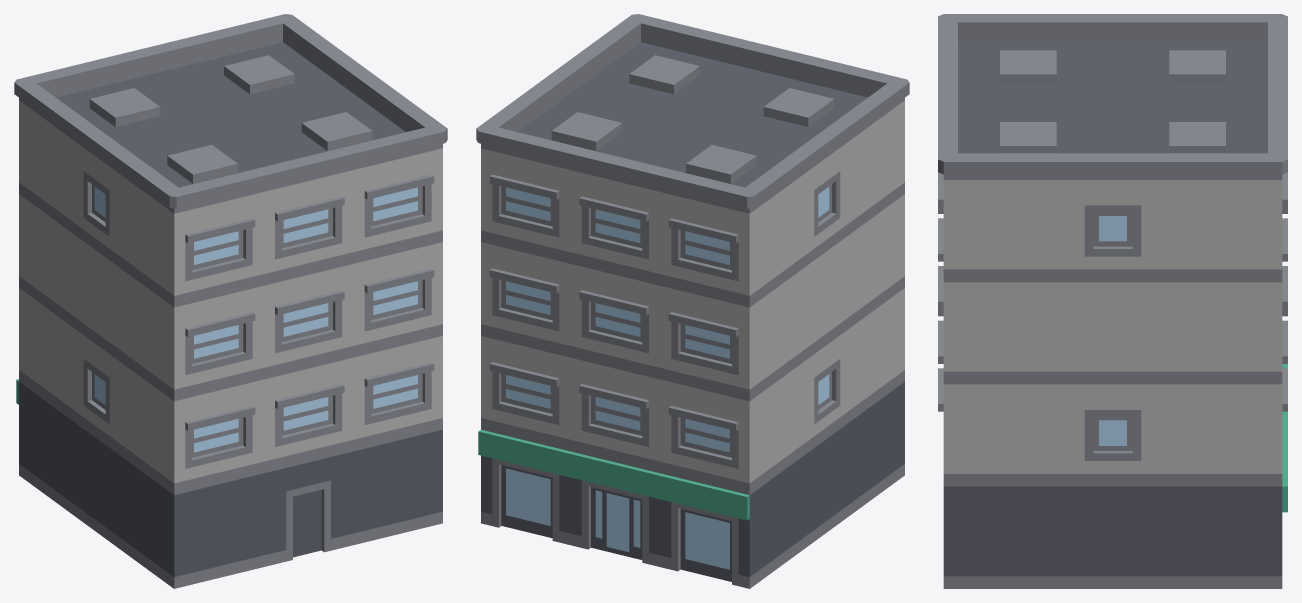
The model's file is large_buildingD.obj.
3 views of the same model, side by side, from view 1: azimuth 30°, elevation 25°; view 2: azimuth 150°, elevation 25°; view 3: azimuth 270°, elevation 25° (orthographic). The views are drawn at different scales.
Visible parts, largest first — view 1: large_buildingD; view 2: large_buildingD; view 3: large_buildingD.
Part boxes in pixels (box(x1,y1,x2,y2)): large_buildingD: box(14, 14, 447, 588); large_buildingD: box(476, 14, 909, 588); large_buildingD: box(938, 14, 1287, 588).
Size of the model in its own units: 1.24 by 1.68 by 1.24.
